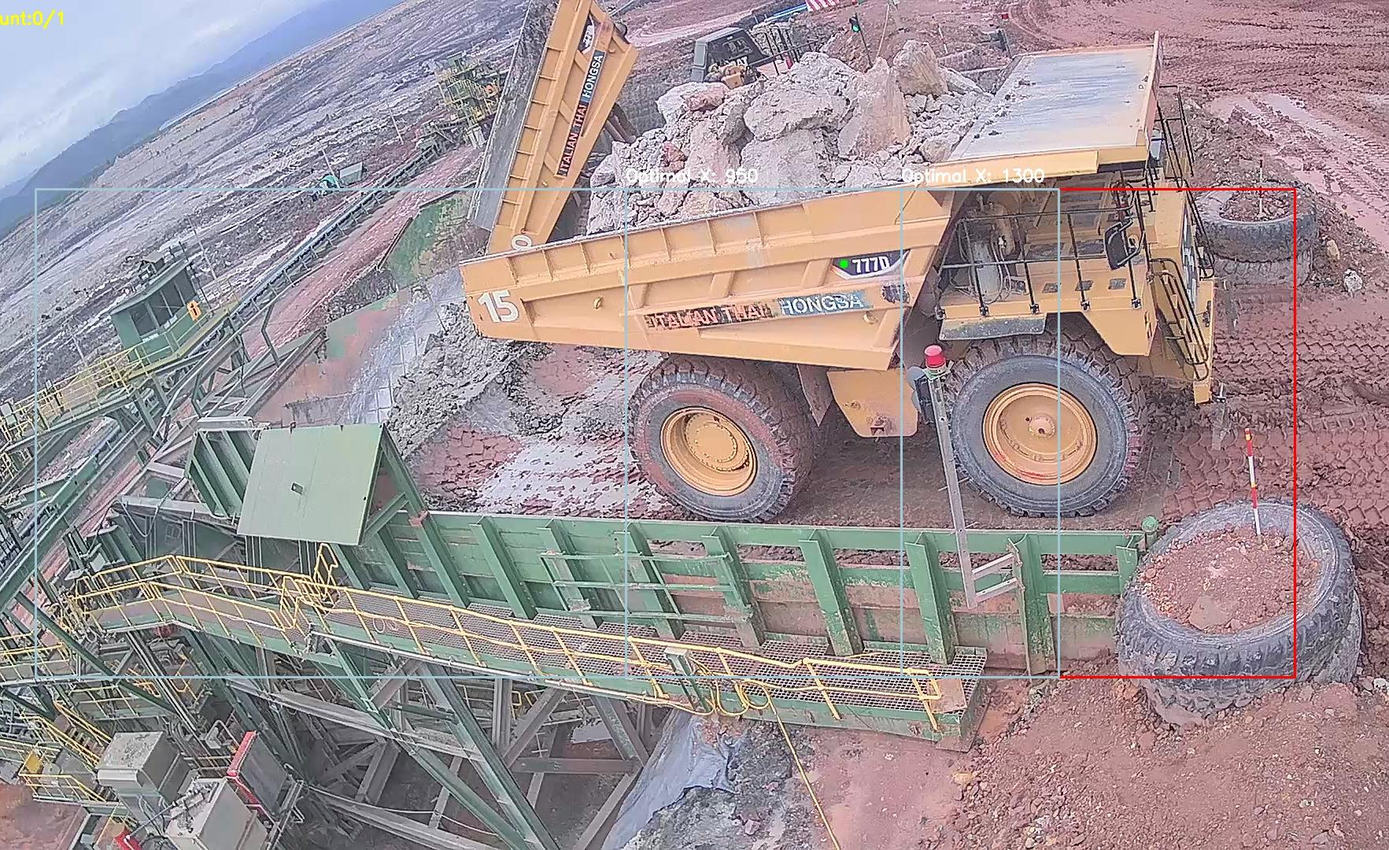company: (636, 287, 885, 335)
full_load: (581, 63, 959, 227)
mining_truck: (458, 29, 1239, 509)
tail_number: (473, 280, 526, 333)
truck_size: (832, 239, 905, 280)
